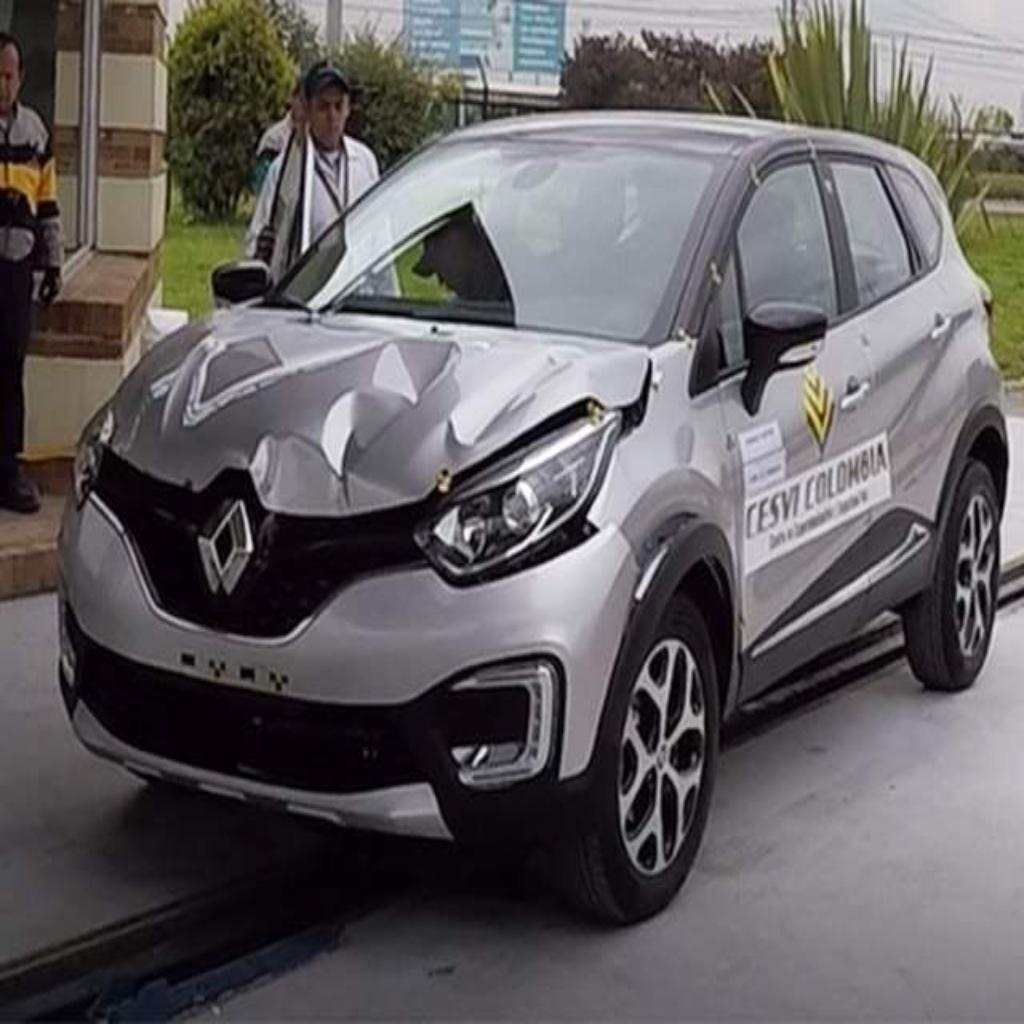Dent: (101, 314, 596, 502)
